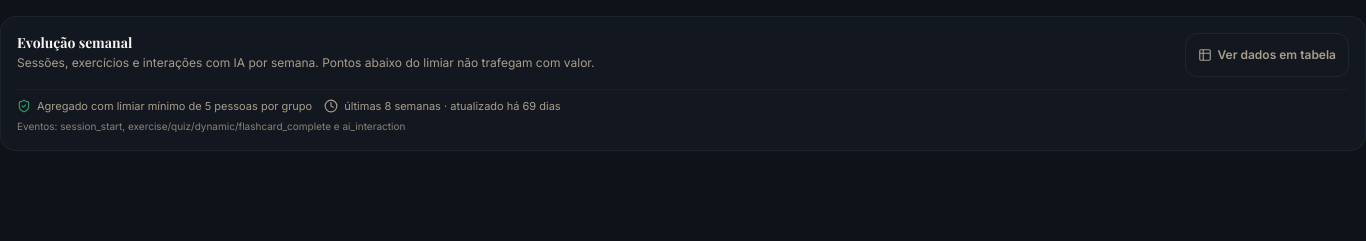
Scenario: TRUST-1.2.1 — estados da série institucional › valor divulgado aparece no gráfico e na tabela
Click the button "Ver dados em tabela" at x=1267, y=55, box [1185,33,1349,77]
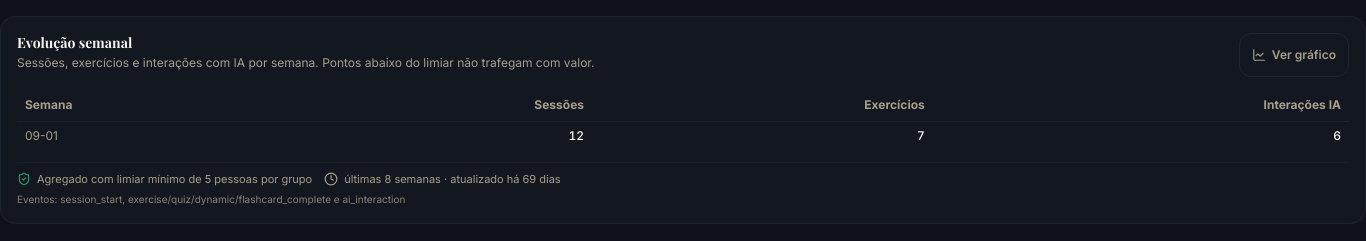
expect the cell "12" is shown: met, box [299,122,592,150]
expect the cell "7" is shown: met, box [592,122,933,150]
